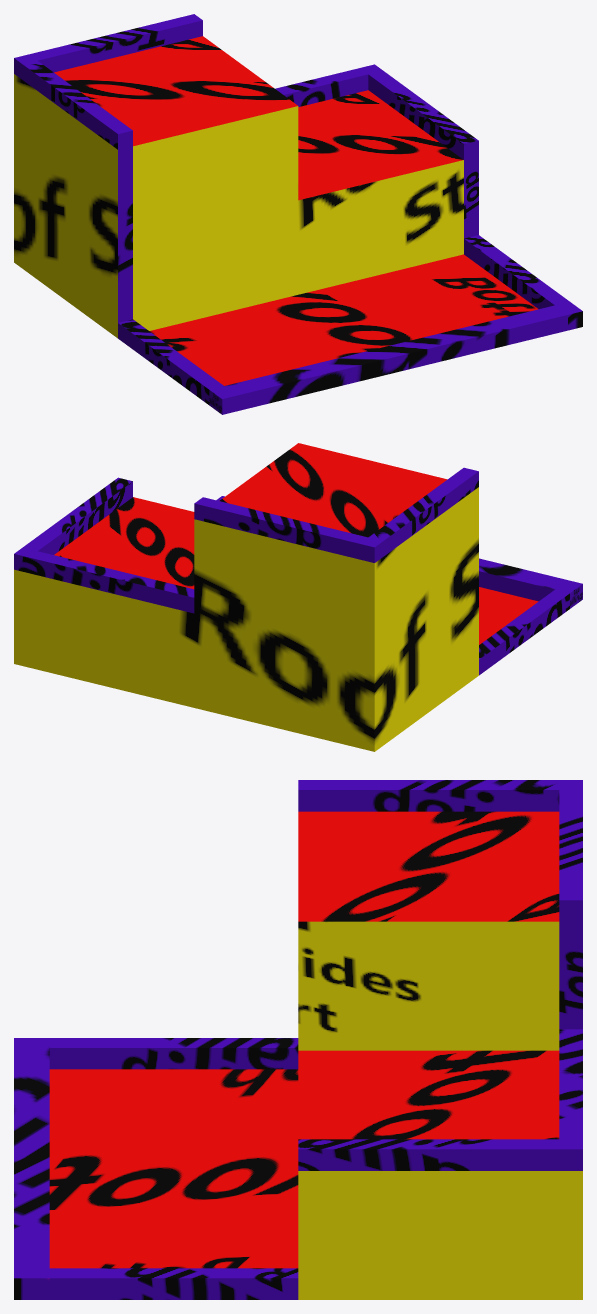
File: ENV_Roof_ThreeXThree_TypeFive.fbx
The picture shows the model from 3 angles, top to bottom: view 1: azimuth 30°, elevation 25°; view 2: azimuth 150°, elevation 25°; view 3: azimuth 270°, elevation 25°; orthographic projection. The views are drawn at different scales.
Parts seen in each view (by area): view 1: ENV_3x3_RoofTypeFive; view 2: ENV_3x3_RoofTypeFive; view 3: ENV_3x3_RoofTypeFive.
Boxes of the visible parts, box(x1,y1,x2,y2) form: ENV_3x3_RoofTypeFive: box(14, 14, 582, 414); ENV_3x3_RoofTypeFive: box(14, 443, 582, 751); ENV_3x3_RoofTypeFive: box(14, 780, 582, 1299).
Bounding box in the file's own units: 36 × 19.5 × 36.
